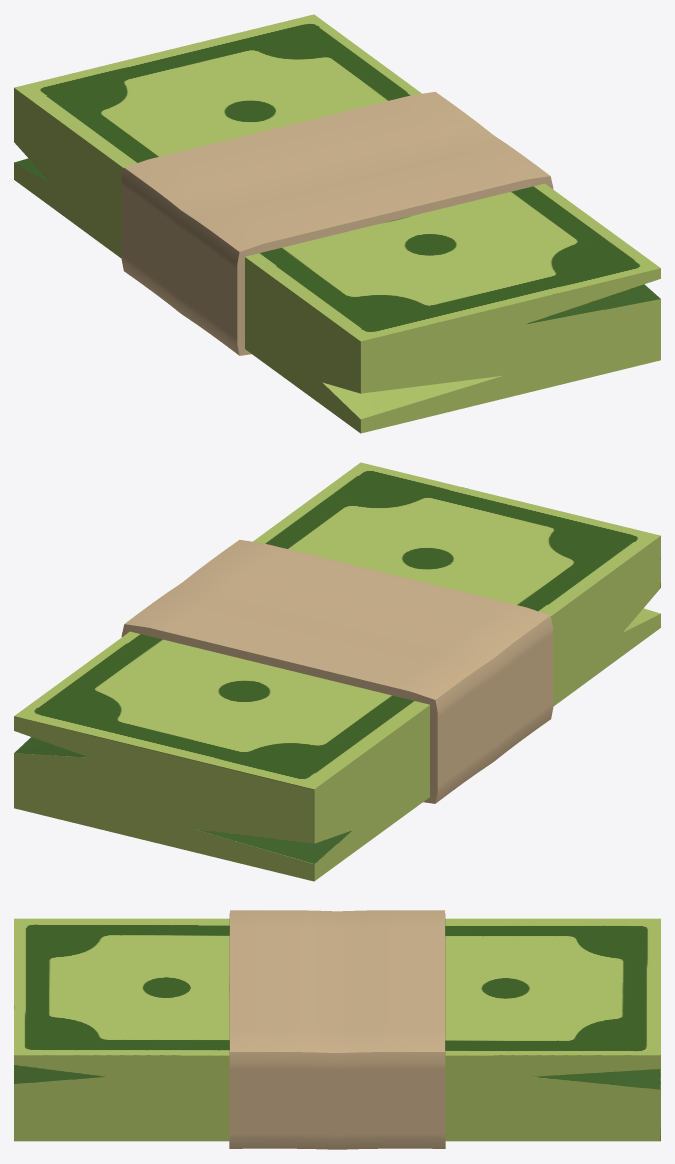
Rendered from Money.fbx.
3 renders of one model, top to bottom at view 1: azimuth 30°, elevation 25°; view 2: azimuth 150°, elevation 25°; view 3: azimuth 270°, elevation 25°, orthographic. The views are drawn at different scales.
Visible parts, largest first — view 1: Plane, Plane.001; view 2: Plane, Plane.001; view 3: Plane, Plane.001.
Part boxes in pixels (bbox=[...]): Plane: bbox=[14, 14, 660, 433]; Plane.001: bbox=[121, 91, 553, 355]; Plane: bbox=[14, 462, 660, 881]; Plane.001: bbox=[121, 539, 553, 803]; Plane: bbox=[14, 918, 660, 1141]; Plane.001: bbox=[229, 910, 445, 1149].
Bounding box in the file's own units: 105 × 34.88 × 200.
Materials: 2 (1 with a texture image).
